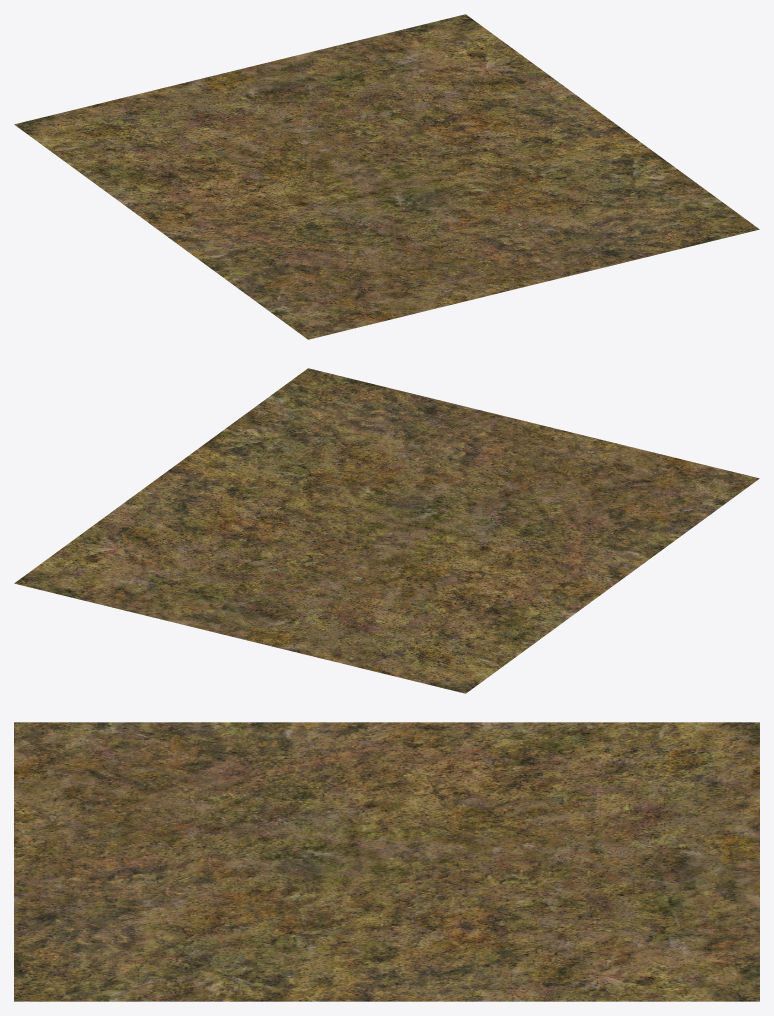
File: yuka.FBX
3 views of the same model, one above another, from view 1: azimuth 30°, elevation 25°; view 2: azimuth 150°, elevation 25°; view 3: azimuth 270°, elevation 25° (orthographic). The views are drawn at different scales.
Visible parts, largest first — view 1: Plane001; view 2: Plane001; view 3: Plane001.
Part boxes in pixels (x1=…): Plane001: x1=14, y1=14, x2=759, y2=339; Plane001: x1=14, y1=368, x2=759, y2=693; Plane001: x1=14, y1=722, x2=759, y2=1001.
Size of the model in its own units: 7571 by 8539 by 0.
1 material, 1 textured.
